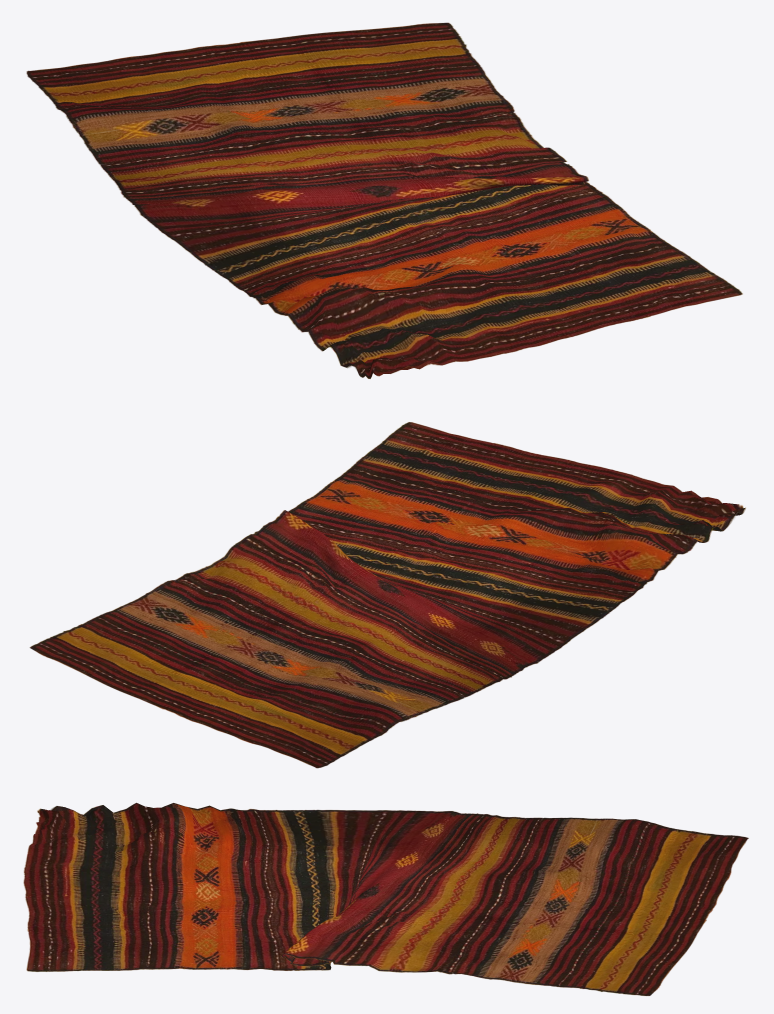
The model's file is Rug.glb.
3 renders of one model, top to bottom at view 1: azimuth 30°, elevation 25°; view 2: azimuth 150°, elevation 25°; view 3: azimuth 270°, elevation 25°, orthographic. The views are drawn at different scales.
Visible parts, largest first — view 1: Object_4; view 2: Object_4; view 3: Object_4.
Boxes of the visible parts, box(x1,y1,x2,y2) form: Object_4: box(26, 22, 742, 378); Object_4: box(29, 422, 745, 768); Object_4: box(23, 802, 748, 995).
Bounding box in the file's own units: 1.14 × 0.065 × 1.86.
Materials: 1 (1 with a texture image).
